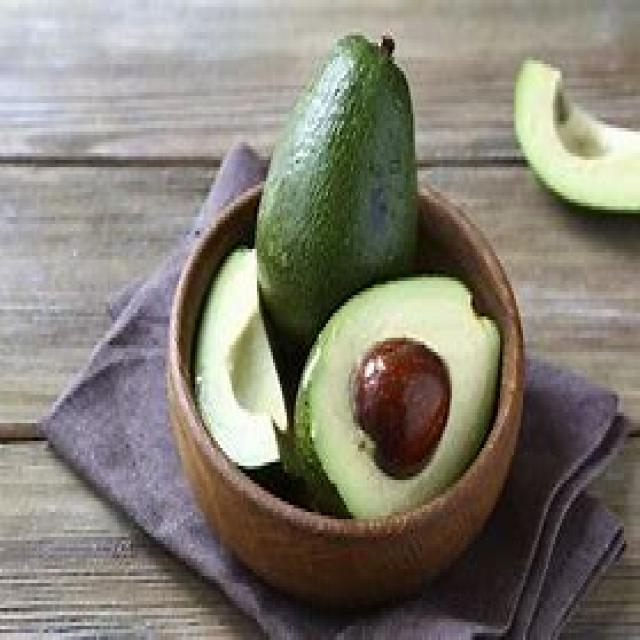Avocado: (294, 280, 506, 539), (260, 20, 423, 302), (509, 50, 640, 266), (185, 248, 292, 496)
